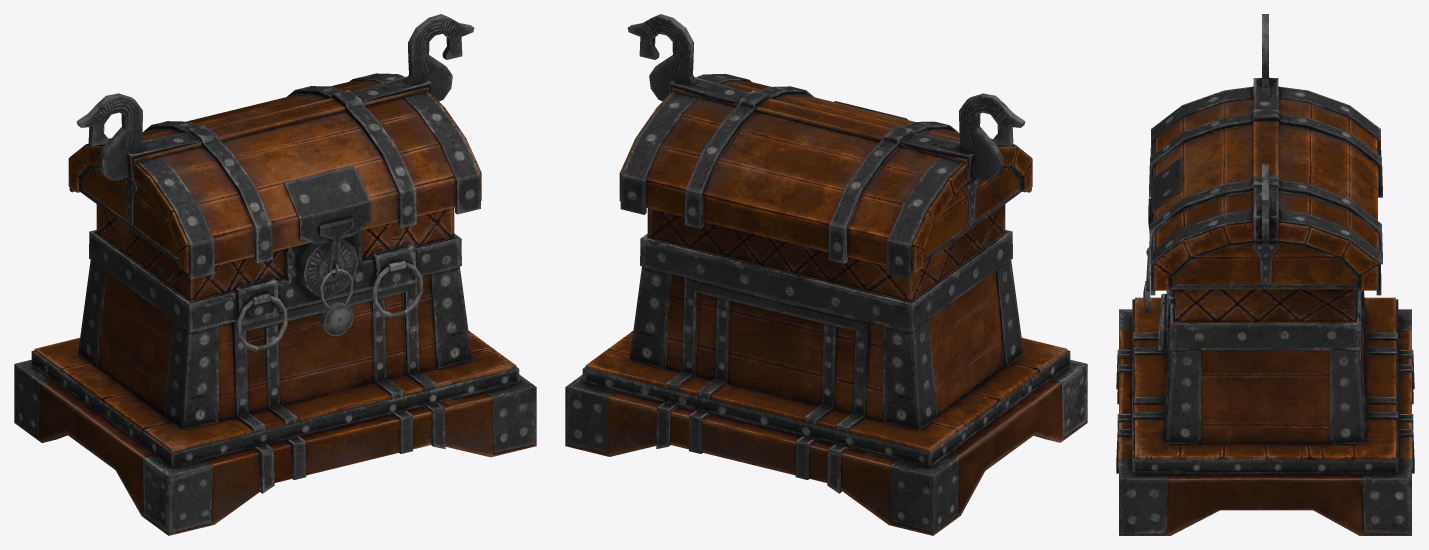
File: PRP_Chest_Silver.glb
The picture shows the model from 3 angles, left to right: view 1: azimuth 30°, elevation 25°; view 2: azimuth 150°, elevation 25°; view 3: azimuth 270°, elevation 25°; orthographic projection. The views are drawn at different scales.
Parts seen in each view (by area): view 1: defaultMaterial; view 2: defaultMaterial; view 3: defaultMaterial.
Part boxes in pixels (x1,y1,x2,y2): defaultMaterial: [14, 14, 536, 535]; defaultMaterial: [565, 14, 1087, 535]; defaultMaterial: [1116, 14, 1414, 535].
Size of the model in its own units: 2 by 1.83 by 1.38.
Materials: 1 (1 with a texture image).
